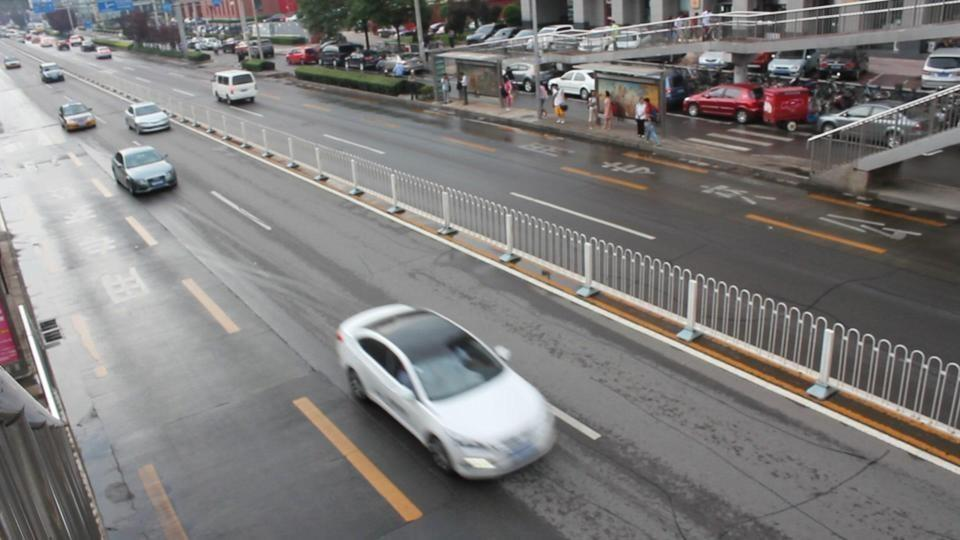car: (334, 302, 559, 483), (682, 83, 771, 124), (111, 144, 178, 196), (812, 101, 904, 134), (805, 50, 865, 81), (123, 100, 171, 135), (211, 69, 257, 105), (921, 47, 960, 89), (767, 49, 818, 81), (534, 26, 588, 53), (549, 70, 596, 100), (477, 27, 538, 49), (376, 54, 432, 77), (58, 100, 98, 132), (464, 24, 513, 46), (286, 46, 320, 65), (40, 63, 64, 83), (3, 58, 21, 70), (97, 47, 113, 60)
